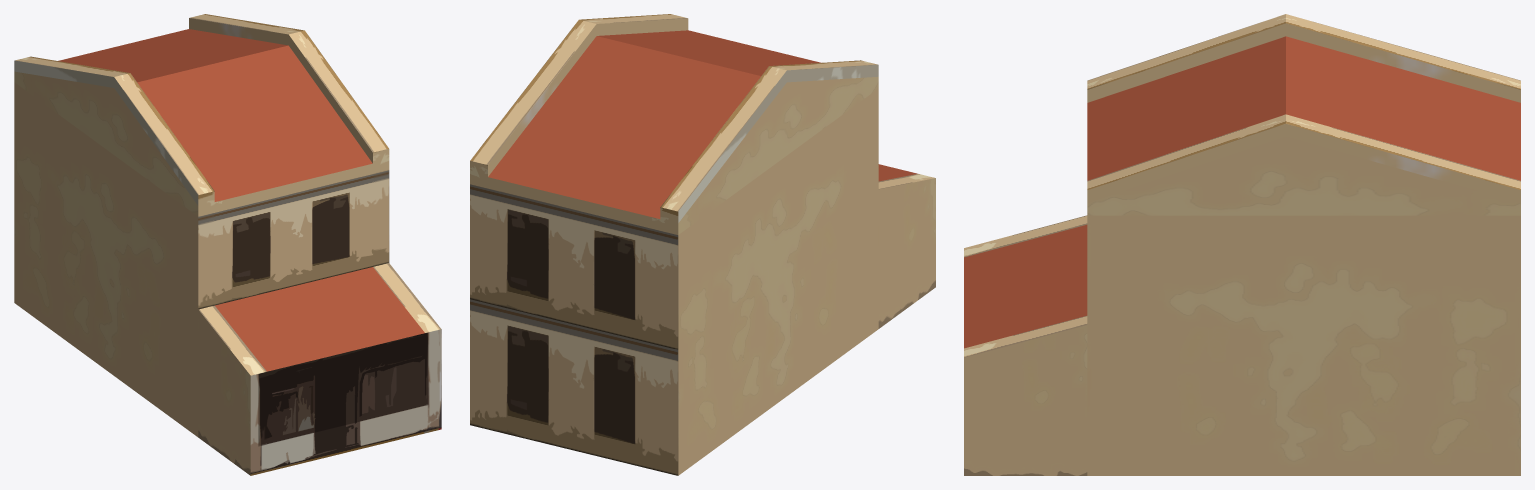
The model's file is SM_Building_Large_04.fbx.
The picture shows the model from 3 angles, left to right: view 1: azimuth 30°, elevation 25°; view 2: azimuth 150°, elevation 25°; view 3: azimuth 270°, elevation 25°; orthographic projection. The views are drawn at different scales.
Visible parts, largest first — view 1: SM_Building_Large_04_LOD0; view 2: SM_Building_Large_04_LOD0; view 3: SM_Building_Large_04_LOD0.
Boxes of the visible parts, x1=… form: SM_Building_Large_04_LOD0: x1=14, y1=14, x2=441, y2=475; SM_Building_Large_04_LOD0: x1=470, y1=14, x2=935, y2=475; SM_Building_Large_04_LOD0: x1=964, y1=14, x2=1520, y2=475.
Size of what is drawn, in the model's own units: 5.97 by 8.95 by 12.82.
